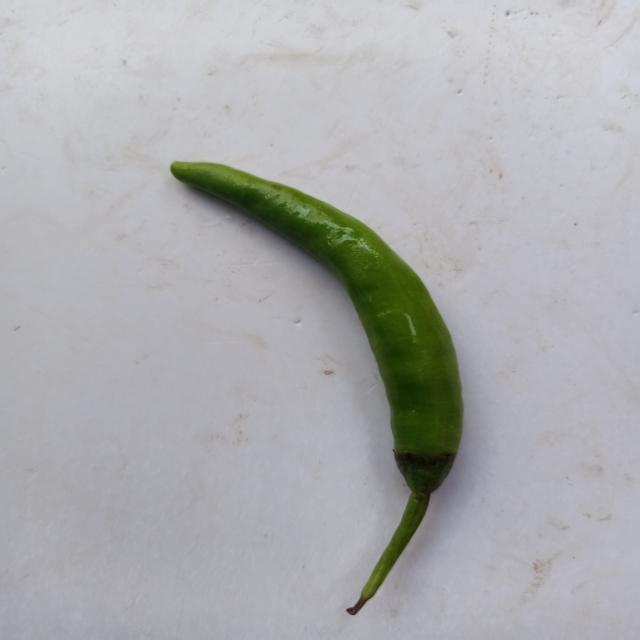Green Chilly: (170, 161, 463, 616)
